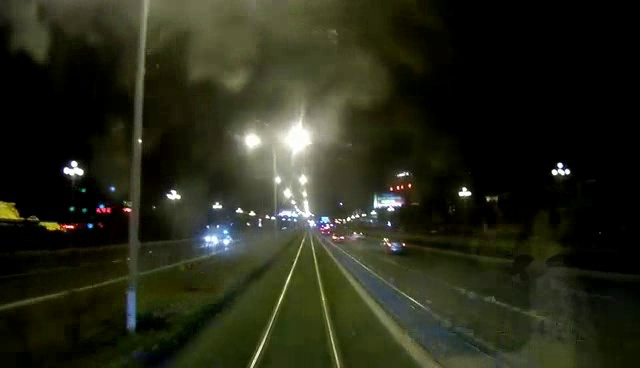car: (382, 233, 413, 255)
